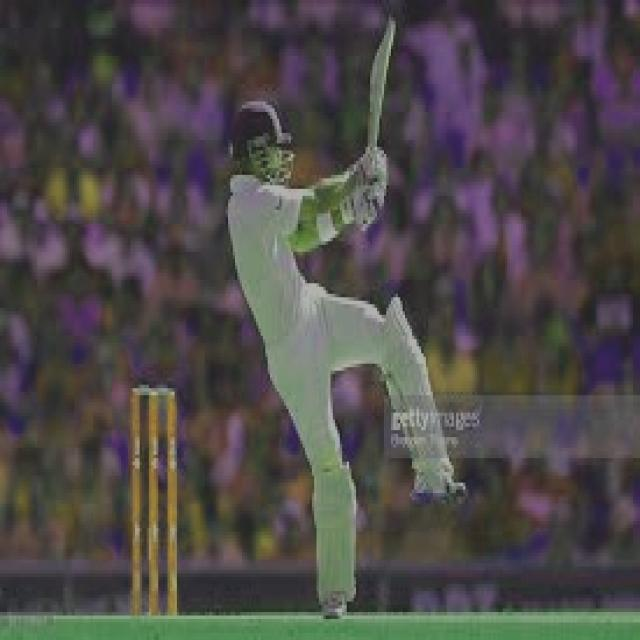toe: (380, 11, 406, 55)
